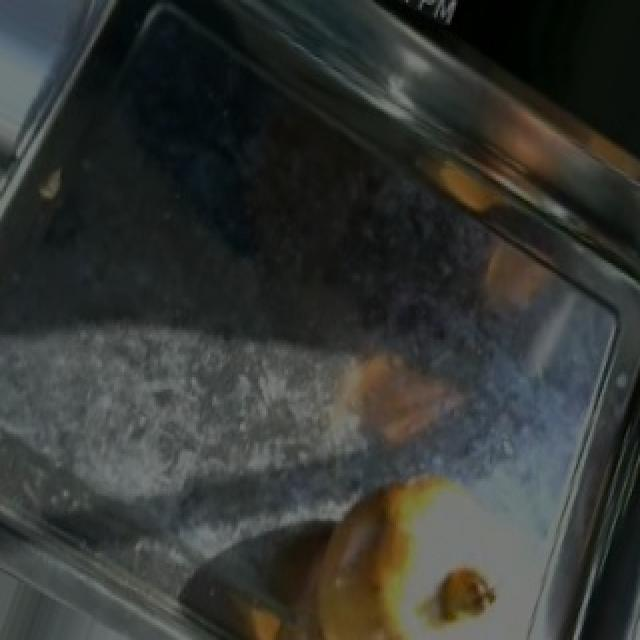fruit: (284, 444, 536, 640)
